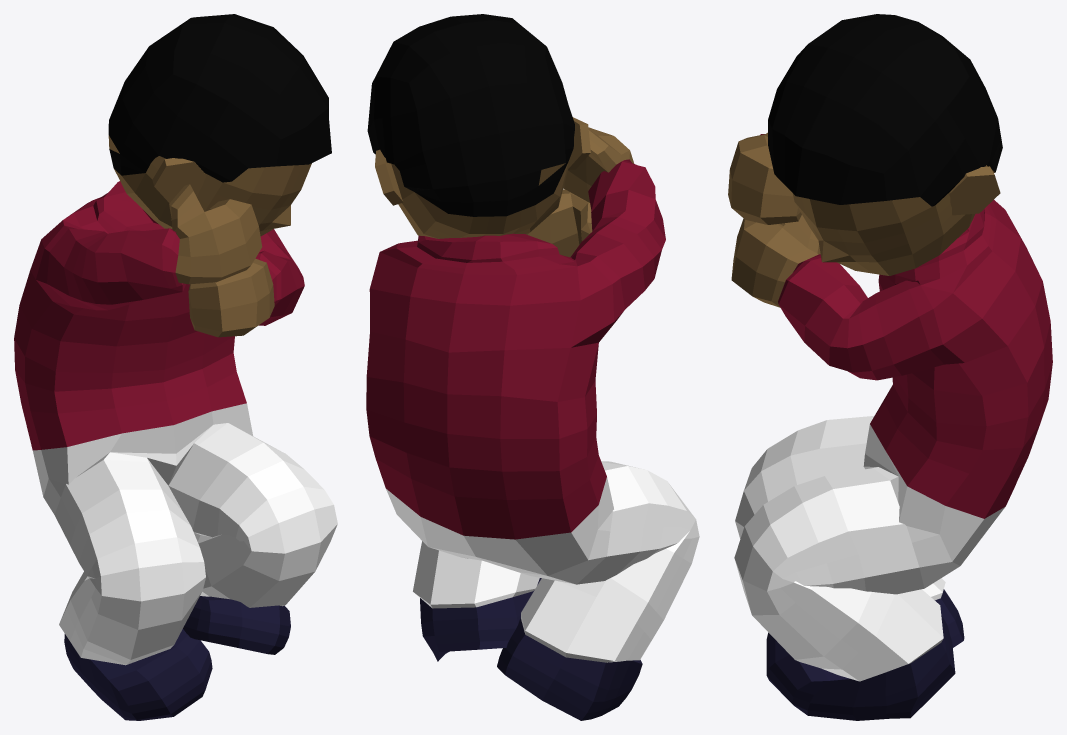
The model's file is Student4.fbx.
3 renders of one model, left to right at view 1: azimuth 30°, elevation 25°; view 2: azimuth 150°, elevation 25°; view 3: azimuth 270°, elevation 25°, orthographic. The views are drawn at different scales.
Parts seen in each view (by area): view 1: Body; view 2: Body; view 3: Body.
Part boxes in pixels (bbox=[...]): Body: bbox=[14, 14, 337, 720]; Body: bbox=[366, 14, 699, 720]; Body: bbox=[728, 14, 1052, 720].
Bounding box in the file's own units: 5.02 × 11.92 × 4.87.
